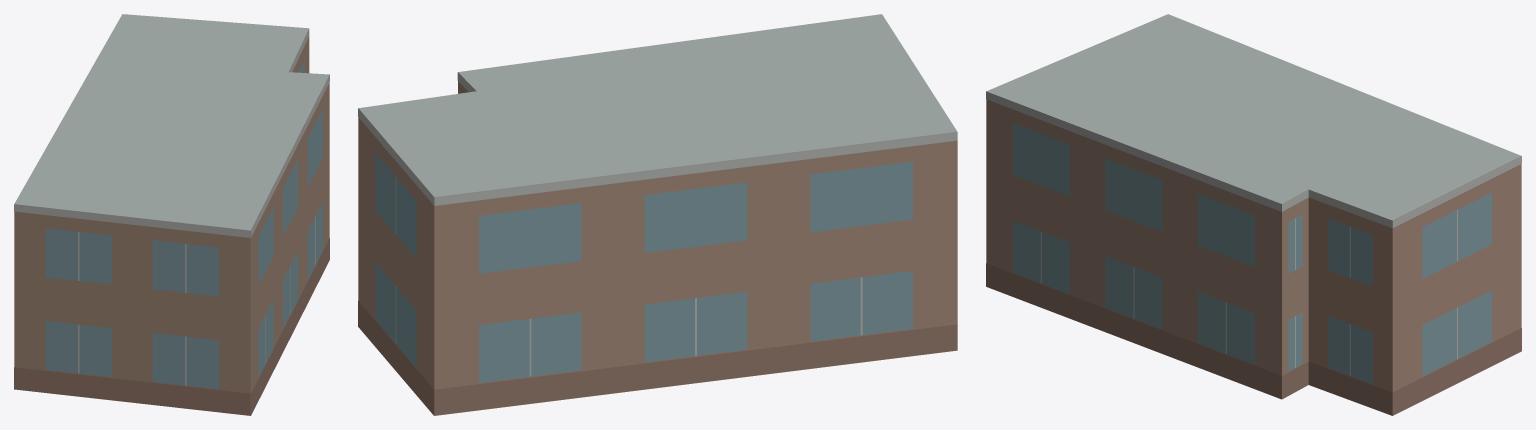
File: survey-upis-32531181.glb
3 views of the same model, side by side, from view 1: azimuth 30°, elevation 25°; view 2: azimuth 150°, elevation 25°; view 3: azimuth 270°, elevation 25° (orthographic). The views are drawn at different scales.
Parts seen in each view (by area): view 1: survey-upis-32531181.tmp; view 2: survey-upis-32531181.tmp; view 3: survey-upis-32531181.tmp.
Boxes of the visible parts, x1,y1,x2,y2 form: survey-upis-32531181.tmp: [14, 14, 329, 415]; survey-upis-32531181.tmp: [358, 14, 957, 415]; survey-upis-32531181.tmp: [986, 14, 1521, 415].
Bounding box in the file's own units: 13.84 × 6.1 × 15.16.
